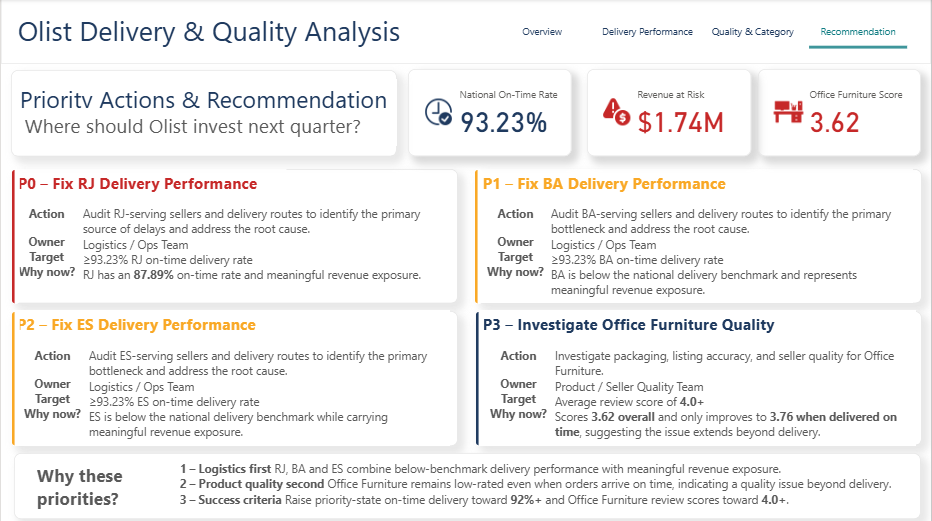

Layout of this report page (visuals, bound fields, positions):
{"tool":"powerbi","page":{"name":"Recommendation","canvas":[1280,720],"ordinal":3},"visuals":[{"type":"shape","box":[0,0,1280,88.6],"z":0},{"type":"pageNavigator","box":[677.7,19.7,571.1,49.2],"z":1000},{"type":"shape","box":[13.4,233.5,615,185],"z":2000},{"type":"textbox","box":[18.5,11.8,551,62.2],"z":3000},{"type":"shape","box":[651.8,233.5,614.8,185],"z":4000},{"type":"textbox","box":[18.5,233.5,374.6,45.4],"z":5000},{"type":"shape","box":[13.8,97.1,530.8,119],"z":6000,"group":"g2"},{"type":"shape","box":[13.8,429.4,615.2,185.8],"z":6000},{"type":"group","id":"g1","title":"Group 1","box":[20,109.7,524.4,92.4],"z":7000,"group":"g2"},{"type":"textbox","box":[20,109.7,524.4,55.1],"z":7000,"group":"g1"},{"type":"shape","box":[651.8,430,614.8,185],"z":7000},{"type":"textbox","box":[26.9,149.8,494.1,52.3],"z":8000,"group":"g1"},{"type":"shape","box":[18.5,624.9,1248.1,90.7],"z":8000},{"type":"group","id":"g2","title":"Group 2","box":[13.8,97.1,530.8,119],"z":9000},{"type":"textbox","box":[658.5,233.5,374.6,45.4],"z":9000,"group":"g3"},{"type":"textbox","box":[17.1,428.3,445.1,47],"z":9000,"group":"g4"},{"type":"textbox","box":[658.5,428.3,445.1,47],"z":9000,"group":"g5"},{"type":"textbox","box":[17.9,279.4,89.5,133.5],"z":10000},{"type":"textbox","box":[107.5,278.8,502.3,134.4],"z":11000},{"type":"group","id":"g3","title":"Group 3","box":[658.5,233.5,596.3,184.8],"z":12000},{"type":"group","id":"g4","title":"Group 3","box":[17.1,428.3,601.1,186.5],"z":13000},{"type":"group","id":"g5","title":"Group 3","box":[658.5,428.3,601.4,186.5],"z":14000},{"type":"textbox","box":[752.6,278.9,502.3,139.4],"z":15000,"group":"g3"},{"type":"textbox","box":[115.9,475.4,502.3,139.4],"z":15000,"group":"g4"},{"type":"textbox","box":[757.3,475.4,502.3,139.4],"z":15000,"group":"g5"},{"type":"textbox","box":[240.2,629.9,1019.6,80.6],"z":15000},{"type":"textbox","box":[43.7,633.3,162.9,73.9],"z":16000},{"type":"cardVisual","fields":{"Data":["fact_orders.On-Time Delivery Rate"]},"box":[560.3,96.4,225,119.7],"z":17000},{"type":"textbox","box":[663.5,278.9,89,134.4],"z":17000,"group":"g3"},{"type":"textbox","box":[26.9,475.4,89,134.4],"z":17000,"group":"g4"},{"type":"textbox","box":[668.3,475.4,89,134.4],"z":17000,"group":"g5"},{"type":"cardVisual","fields":{"Data":["fact_orders.Revenue at Risk"]},"box":[806.5,96.3,225.7,119.7],"z":18000},{"type":"cardVisual","fields":{"Data":["fact_order_items.Office Furniture Review Score"]},"box":[1041.9,95.7,224.3,119.7],"z":19000},{"type":"shape","box":[13.8,234,12.4,185.8],"z":20000},{"type":"shape","box":[13.8,429.4,12.4,185.8],"z":21000},{"type":"shape","box":[651,234,12.4,185.8],"z":22000},{"type":"shape","box":[652.4,429.4,12.4,185.8],"z":23000}]}

Visuals, with their boxes in screenshot pixels (x1, y1, x2, y2), scaled from the page's 1280x720 canvas onto the 932x521 screenshot:
shape: crop(0, 0, 931, 64)
pageNavigator: crop(493, 14, 909, 50)
shape: crop(10, 169, 458, 303)
textbox: crop(13, 9, 415, 54)
shape: crop(475, 169, 922, 303)
textbox: crop(13, 169, 286, 202)
shape: crop(10, 70, 397, 156)
shape: crop(10, 311, 458, 445)
"Group 1" group: crop(15, 79, 396, 146)
textbox: crop(15, 79, 396, 119)
shape: crop(475, 311, 922, 445)
textbox: crop(20, 108, 379, 146)
shape: crop(13, 452, 922, 518)
"Group 2" group: crop(10, 70, 397, 156)
textbox: crop(479, 169, 752, 202)
textbox: crop(12, 310, 337, 344)
textbox: crop(479, 310, 804, 344)
textbox: crop(13, 202, 78, 299)
textbox: crop(78, 202, 444, 299)
"Group 3" group: crop(479, 169, 914, 303)
"Group 3" group: crop(12, 310, 450, 445)
"Group 3" group: crop(479, 310, 917, 445)
textbox: crop(548, 202, 914, 303)
textbox: crop(84, 344, 450, 445)
textbox: crop(551, 344, 917, 445)
textbox: crop(175, 456, 917, 514)
textbox: crop(32, 458, 150, 512)
cardVisual - fact_orders.On-Time Delivery Rate: crop(408, 70, 572, 156)
textbox: crop(483, 202, 548, 299)
textbox: crop(20, 344, 84, 441)
textbox: crop(487, 344, 551, 441)
cardVisual - fact_orders.Revenue at Risk: crop(587, 70, 752, 156)
cardVisual - fact_order_items.Office Furniture Review Score: crop(759, 69, 922, 156)
shape: crop(10, 169, 19, 304)
shape: crop(10, 311, 19, 445)
shape: crop(474, 169, 483, 304)
shape: crop(475, 311, 484, 445)
